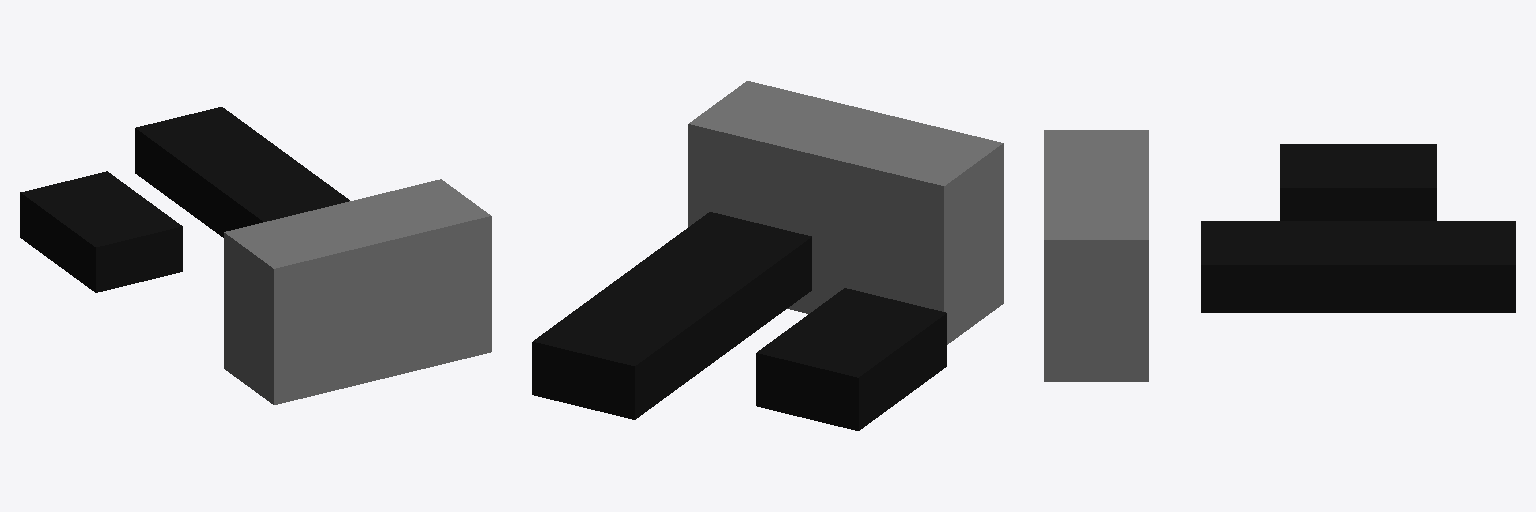
The robot description file, URDF, robot "ur5e":
<?xml version="1.0" encoding="utf-8"?>
<!-- =================================================================================== -->
<!-- |    This document was autogenerated by xacro from ur5e_robot.urdf.xacro          | -->
<!-- |    EDITING THIS FILE BY HAND IS NOT RECOMMENDED                                 | -->
<!-- =================================================================================== -->
<robot name="ur5e" xmlns:xacro="http://ros.org/wiki/xacro">
  <link name="base_link">
    <visual>
      <geometry>
        <mesh filename="../meshes/ur5e/visual/base.dae"/>
      </geometry>
      <material name="LightGrey">
        <color rgba="0.7 0.7 0.7 1.0"/>
      </material>
    </visual>
    <collision>
      <geometry>
        <mesh filename="../meshes/ur5e/collision/base.stl" scale="1.0 1.0 1.0"/>
      </geometry>
    </collision>
    <inertial>
      <mass value="4.0"/>
      <origin rpy="0 0 0" xyz="0.0 0.0 0.0"/>
      <inertia ixx="0.00443333156" ixy="0.0" ixz="0.0" iyy="0.00443333156" iyz="0.0" izz="0.0072"/>
    </inertial>
  </link>
  <joint name="shoulder_pan_joint" type="revolute">
    <parent link="base_link"/>
    <child link="shoulder_link"/>
    <origin rpy="0.0 0.0 0.0" xyz="0.0 0.0 0.163"/>
    <axis xyz="0 0 1"/>
    <limit effort="150.0" lower="-6.28318530718" upper="6.28318530718" velocity="3.14"/>
    <dynamics damping="0.0" friction="0.0"/>
  </joint>
  <link name="shoulder_link">
    <visual>
      <geometry>
        <mesh filename="../meshes/ur5e/visual/shoulder.dae"/>
      </geometry>
      <material name="LightGrey">
        <color rgba="0.7 0.7 0.7 1.0"/>
      </material>
    </visual>
    <collision>
      <geometry>
        <mesh filename="../meshes/ur5e/collision/shoulder.stl" scale="1.0 1.0 1.0"/>
      </geometry>
    </collision>
    <inertial>
      <mass value="3.7"/>
      <origin rpy="0 0 0" xyz="0.0 0.0 0.0"/>
      <inertia ixx="0.010267495893" ixy="0.0" ixz="0.0" iyy="0.010267495893" iyz="0.0" izz="0.00666"/>
    </inertial>
  </link>
  <joint name="shoulder_lift_joint" type="revolute">
    <parent link="shoulder_link"/>
    <child link="upper_arm_link"/>
    <origin rpy="0.0 1.57079632679 0.0" xyz="0.0 0.138 0.0"/>
    <axis xyz="0 1 0"/>
    <limit effort="150.0" lower="-6.28318530718" upper="6.28318530718" velocity="3.14"/>
    <dynamics damping="0.0" friction="0.0"/>
  </joint>
  <link name="upper_arm_link">
    <visual>
      <geometry>
        <mesh filename="../meshes/ur5e/visual/upperarm.dae"/>
      </geometry>
      <material name="LightGrey">
        <color rgba="0.7 0.7 0.7 1.0"/>
      </material>
    </visual>
    <collision>
      <geometry>
        <mesh filename="../meshes/ur5e/collision/upperarm.stl" scale="1.0 1.0 1.0"/>
      </geometry>
    </collision>
    <inertial>
      <mass value="8.393"/>
      <origin rpy="0 0 0" xyz="0.0 0.0 0.2125"/>
      <inertia ixx="0.133885781862" ixy="0.0" ixz="0.0" iyy="0.133885781862" iyz="0.0" izz="0.0151074"/>
    </inertial>
  </link>
  <joint name="elbow_joint" type="revolute">
    <parent link="upper_arm_link"/>
    <child link="forearm_link"/>
    <origin rpy="0.0 0.0 0.0" xyz="0.0 -0.131 0.425"/>
    <axis xyz="0 1 0"/>
    <limit effort="150.0" lower="-3.14159265359" upper="3.14159265359" velocity="3.14"/>
    <dynamics damping="0.0" friction="0.0"/>
  </joint>
  <link name="forearm_link">
    <visual>
      <geometry>
        <mesh filename="../meshes/ur5e/visual/forearm.dae"/>
      </geometry>
      <material name="LightGrey">
        <color rgba="0.7 0.7 0.7 1.0"/>
      </material>
    </visual>
    <collision>
      <geometry>
        <mesh filename="../meshes/ur5e/collision/forearm.stl" scale="1.0 1.0 1.0"/>
      </geometry>
    </collision>
    <inertial>
      <mass value="2.275"/>
      <origin rpy="0 0 0" xyz="0.0 0.0 0.196"/>
      <inertia ixx="0.0311796208615" ixy="0.0" ixz="0.0" iyy="0.0311796208615" iyz="0.0" izz="0.004095"/>
    </inertial>
  </link>
  <joint name="wrist_1_joint" type="revolute">
    <parent link="forearm_link"/>
    <child link="wrist_1_link"/>
    <origin rpy="0.0 1.57079632679 0.0" xyz="0.0 0.0 0.392"/>
    <axis xyz="0 1 0"/>
    <limit effort="28.0" lower="-6.28318530718" upper="6.28318530718" velocity="6.28"/>
    <dynamics damping="0.0" friction="0.0"/>
  </joint>
  <link name="wrist_1_link">
    <visual>
      <geometry>
        <mesh filename="../meshes/ur5e/visual/wrist1.dae"/>
      </geometry>
      <material name="LightGrey">
        <color rgba="0.7 0.7 0.7 1.0"/>
      </material>
    </visual>
    <collision>
      <geometry>
        <mesh filename="../meshes/ur5e/collision/wrist1.stl" scale="1.0 1.0 1.0"/>
      </geometry>
    </collision>
    <inertial>
      <mass value="1.219"/>
      <origin rpy="0 0 0" xyz="0.0 0.127 0.0"/>
      <inertia ixx="0.00255989897604" ixy="0.0" ixz="0.0" iyy="0.00255989897604" iyz="0.0" izz="0.0021942"/>
    </inertial>
  </link>
  <joint name="wrist_2_joint" type="revolute">
    <parent link="wrist_1_link"/>
    <child link="wrist_2_link"/>
    <origin rpy="0.0 0.0 0.0" xyz="0.0 0.127 0.0"/>
    <axis xyz="0 0 1"/>
    <limit effort="28.0" lower="-6.28318530718" upper="6.28318530718" velocity="6.28"/>
    <dynamics damping="0.0" friction="0.0"/>
  </joint>
  <link name="wrist_2_link">
    <visual>
      <geometry>
        <mesh filename="../meshes/ur5e/visual/wrist2.dae"/>
      </geometry>
      <material name="LightGrey">
        <color rgba="0.7 0.7 0.7 1.0"/>
      </material>
    </visual>
    <collision>
      <geometry>
        <mesh filename="../meshes/ur5e/collision/wrist2.stl" scale="1.0 1.0 1.0"/>
      </geometry>
    </collision>
    <inertial>
      <mass value="1.219"/>
      <origin rpy="0 0 0" xyz="0.0 0.0 0.1"/>
      <inertia ixx="0.00255989897604" ixy="0.0" ixz="0.0" iyy="0.00255989897604" iyz="0.0" izz="0.0021942"/>
    </inertial>
  </link>
  <joint name="wrist_3_joint" type="revolute">
    <parent link="wrist_2_link"/>
    <child link="wrist_3_link"/>
    <origin rpy="0.0 0.0 0.0" xyz="0.0 0.0 0.1"/>
    <axis xyz="0 1 0"/>
    <limit effort="28.0" lower="-6.28318530718" upper="6.28318530718" velocity="6.28"/>
    <dynamics damping="0.0" friction="0.0"/>
  </joint>
  <link name="wrist_3_link">
    <visual>
      <geometry>
        <mesh filename="../meshes/ur5e/visual/wrist3.dae"/>
      </geometry>
      <material name="LightGrey">
        <color rgba="0.7 0.7 0.7 1.0"/>
      </material>
    </visual>
    <collision>
      <geometry>
        <mesh filename="../meshes/ur5e/collision/wrist3.stl" scale="1.0 1.0 1.0"/>
      </geometry>
    </collision>
    <inertial>
      <mass value="0.1879"/>
      <origin rpy="1.57079632679 0 0" xyz="0.0 0.0771 0.0"/>
      <inertia ixx="9.89041005217e-05" ixy="0.0" ixz="0.0" iyy="9.89041005217e-05" iyz="0.0" izz="0.0001321171875"/>
    </inertial>
  </link>
  <joint name="ee_fixed_joint" type="fixed">
    <parent link="wrist_3_link"/>
    <child link="ee_link"/>
    <origin rpy="0.0 0.0 1.57079632679" xyz="0.0 0.1 0.0"/>
  </joint>
  <link name="ee_link">
    <collision>
      <geometry>
        <box size="0.01 0.01 0.01"/>
      </geometry>
      <origin rpy="0 0 0" xyz="-0.01 0 0"/>
    </collision>
  </link>
  <transmission name="shoulder_pan_trans">
    <type>transmission_interface/SimpleTransmission</type>
    <joint name="shoulder_pan_joint">
      <hardwareInterface>hardware_interface/PositionJointInterface</hardwareInterface>
    </joint>
    <actuator name="shoulder_pan_motor">
      <mechanicalReduction>1</mechanicalReduction>
    </actuator>
  </transmission>
  <transmission name="shoulder_lift_trans">
    <type>transmission_interface/SimpleTransmission</type>
    <joint name="shoulder_lift_joint">
      <hardwareInterface>hardware_interface/PositionJointInterface</hardwareInterface>
    </joint>
    <actuator name="shoulder_lift_motor">
      <mechanicalReduction>1</mechanicalReduction>
    </actuator>
  </transmission>
  <transmission name="elbow_trans">
    <type>transmission_interface/SimpleTransmission</type>
    <joint name="elbow_joint">
      <hardwareInterface>hardware_interface/PositionJointInterface</hardwareInterface>
    </joint>
    <actuator name="elbow_motor">
      <mechanicalReduction>1</mechanicalReduction>
    </actuator>
  </transmission>
  <transmission name="wrist_1_trans">
    <type>transmission_interface/SimpleTransmission</type>
    <joint name="wrist_1_joint">
      <hardwareInterface>hardware_interface/PositionJointInterface</hardwareInterface>
    </joint>
    <actuator name="wrist_1_motor">
      <mechanicalReduction>1</mechanicalReduction>
    </actuator>
  </transmission>
  <transmission name="wrist_2_trans">
    <type>transmission_interface/SimpleTransmission</type>
    <joint name="wrist_2_joint">
      <hardwareInterface>hardware_interface/PositionJointInterface</hardwareInterface>
    </joint>
    <actuator name="wrist_2_motor">
      <mechanicalReduction>1</mechanicalReduction>
    </actuator>
  </transmission>
  <transmission name="wrist_3_trans">
    <type>transmission_interface/SimpleTransmission</type>
    <joint name="wrist_3_joint">
      <hardwareInterface>hardware_interface/PositionJointInterface</hardwareInterface>
    </joint>
    <actuator name="wrist_3_motor">
      <mechanicalReduction>1</mechanicalReduction>
    </actuator>
  </transmission>
  <gazebo reference="shoulder_link">
    <selfCollide>true</selfCollide>
  </gazebo>
  <gazebo reference="upper_arm_link">
    <selfCollide>true</selfCollide>
  </gazebo>
  <gazebo reference="forearm_link">
    <selfCollide>true</selfCollide>
  </gazebo>
  <gazebo reference="wrist_1_link">
    <selfCollide>true</selfCollide>
  </gazebo>
  <gazebo reference="wrist_3_link">
    <selfCollide>true</selfCollide>
  </gazebo>
  <gazebo reference="wrist_2_link">
    <selfCollide>true</selfCollide>
  </gazebo>
  <gazebo reference="ee_link">
    <selfCollide>true</selfCollide>
  </gazebo>
  <!-- ROS base_link to UR 'Base' Coordinates transform -->
  <link name="base"/>
  <joint name="base_link-base_fixed_joint" type="fixed">
    <!-- NOTE: this rotation is only needed as long as base_link itself is
                 not corrected wrt the real robot (ie: rotated over 180
                 degrees)
      -->
    <origin rpy="0 0 -3.14159265359" xyz="0 0 0"/>
    <parent link="base_link"/>
    <child link="base"/>
  </joint>
  <!-- Frame coincident with all-zeros TCP on UR controller -->
  <link name="tool0"/>
  <joint name="wrist_3_link-tool0_fixed_joint" type="fixed">
    <origin rpy="-1.57079632679 0 0" xyz="0 0.1 0"/>
    <parent link="wrist_3_link"/>
    <child link="tool0"/>
  </joint>


   <!--################################################
  ########              gripper                  #####
  ####################################################-->
<!-- Gripper Base -->
<link name="gripper_base">
  <visual>
    <geometry>
      <box size="0.05 0.03 0.02"/>
    </geometry>
    <origin xyz="0 0 0" rpy="0 0 0"/>
    <material name="gray">
      <color rgba="0.5 0.5 0.5 1.0"/>
    </material>
  </visual>
  <collision>
    <geometry>
      <box size="0.05 0.03 0.02"/>
    </geometry>
    <origin xyz="0 0 0" rpy="0 0 0"/>
  </collision>
  <inertial>
    <mass value="0.1"/>
    <origin xyz="0 0 0" rpy="0 0 0"/>
    <inertia ixx="0.001" ixy="0" ixz="0" iyy="0.001" iyz="0" izz="0.001"/>
  </inertial>
</link>

<!-- Left Jaw -->
<joint name="left_jaw_joint" type="fixed">
  <parent link="gripper_base"/>
  <child link="left_jaw"/>
  <origin xyz="0.03 0.00 0.05" rpy="0 0 0"/>
</joint>

<link name="left_jaw">
  <visual>
    <geometry>
      <box size="0.02 0.01 0.03"/>
    </geometry>
    <origin xyz="0 0 0" rpy="0 0 0"/>
    <material name="black">
      <color rgba="0.1 0.1 0.1 1"/>
    </material>
  </visual>
  <collision>
    <geometry>
      <box size="0.02 0.01 0.03"/>
    </geometry>
    <origin xyz="0 0 0" rpy="0 0 0"/>
  </collision>
  <inertial>
    <mass value="0.05"/>
    <origin xyz="0 0 0" rpy="0 0 0"/>
    <inertia ixx="0.0005" ixy="0" ixz="0" iyy="0.0005" iyz="0" izz="0.0005"/>
  </inertial>
</link>

<!-- Right Jaw -->
<joint name="right_jaw_joint" type="revolute">
  <parent link="gripper_base"/>
  <child link="right_jaw"/>
  <origin xyz="-0.025 0 0.05" rpy="0 0 0"/>
  <axis xyz="0 1 0"/>
  <limit lower="0.0" upper="1.0" effort="5.0" velocity="1.0"/>
  <dynamics damping="0.1" friction="0.1"/>
</joint>

<link name="right_jaw">
  <visual>
    <origin xyz="0.02 0 0" rpy="0 0 0"/>
    <geometry>
      <box size="0.02 0.01 0.06"/>
    </geometry>
    <material name="black">
      <color rgba="0.1 0.1 0.1 1"/>
    </material>
  </visual>
  <collision>
    <origin xyz="0.02 0 0.06" rpy="0 0 0"/>
    <geometry>
      <box size="0.02 0.01 0"/>
    </geometry>
  </collision>
  <inertial>
    <mass value="0.05"/>
    <origin xyz="0.02 0 0" rpy="0 0 0"/>
    <inertia ixx="0.0005" ixy="0" ixz="0" iyy="0.0005" iyz="0" izz="0.0005"/>
  </inertial>
</link>

<!-- Mount Gripper to Wrist -->
<joint name="ur5e_to_gripper" type="fixed">
  <parent link="wrist_3_link"/>
  <child link="gripper_base"/>
  <origin xyz="0 0.110 0" rpy="-1.5708 0 0"/>
</joint>

  <gazebo reference="baseLink">
    <selfCollide>true</selfCollide>
  </gazebo>


  <link name="world"/>
  <joint name="world_joint" type="fixed">
    <parent link="world"/>
    <child link="base_link"/>
    <origin rpy="0.0 0.0 0.0" xyz="0.0 0.0 0.0"/>
  </joint>

  
</robot>

--- What the picture shows (computed from the rendered views, not written in the file) ---
3 views of the same robot in one strip: view 1: azimuth 30°, elevation 25°; view 2: azimuth 150°, elevation 25°; view 3: azimuth 270°, elevation 25° (orthographic).
Model ur5e with 14 links and 13 joints (7 revolute, 6 fixed), rooted at world, posed every joint at zero.
Links seen in each view (by area): view 1: gripper_base, right_jaw, left_jaw; view 2: gripper_base, right_jaw, left_jaw; view 3: right_jaw, gripper_base, left_jaw.
Link boxes in pixels (<box>): gripper_base: <box>224,179,491,404</box>; right_jaw: <box>135,107,349,237</box>; left_jaw: <box>20,171,182,292</box>; gripper_base: <box>688,81,1003,344</box>; right_jaw: <box>532,212,811,419</box>; left_jaw: <box>756,288,946,430</box>; right_jaw: <box>1201,221,1515,312</box>; gripper_base: <box>1044,130,1148,381</box>; left_jaw: <box>1280,144,1436,220</box>.
Bounding box of the posed robot: 0.065 × 0.09 × 0.03 m (x, y, z).
0 mesh visuals loaded from 7 distinct referenced files (none loaded); not drawn: 7 (reference not matched to a file when rendering).